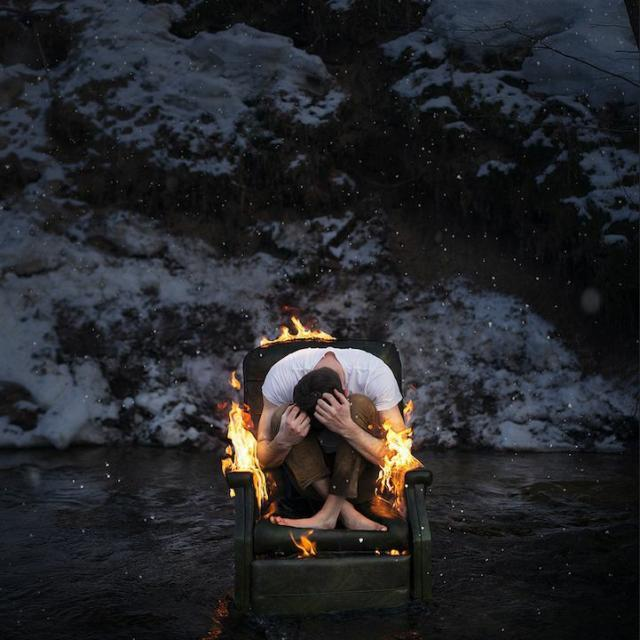Fire: (210, 319, 440, 561)
